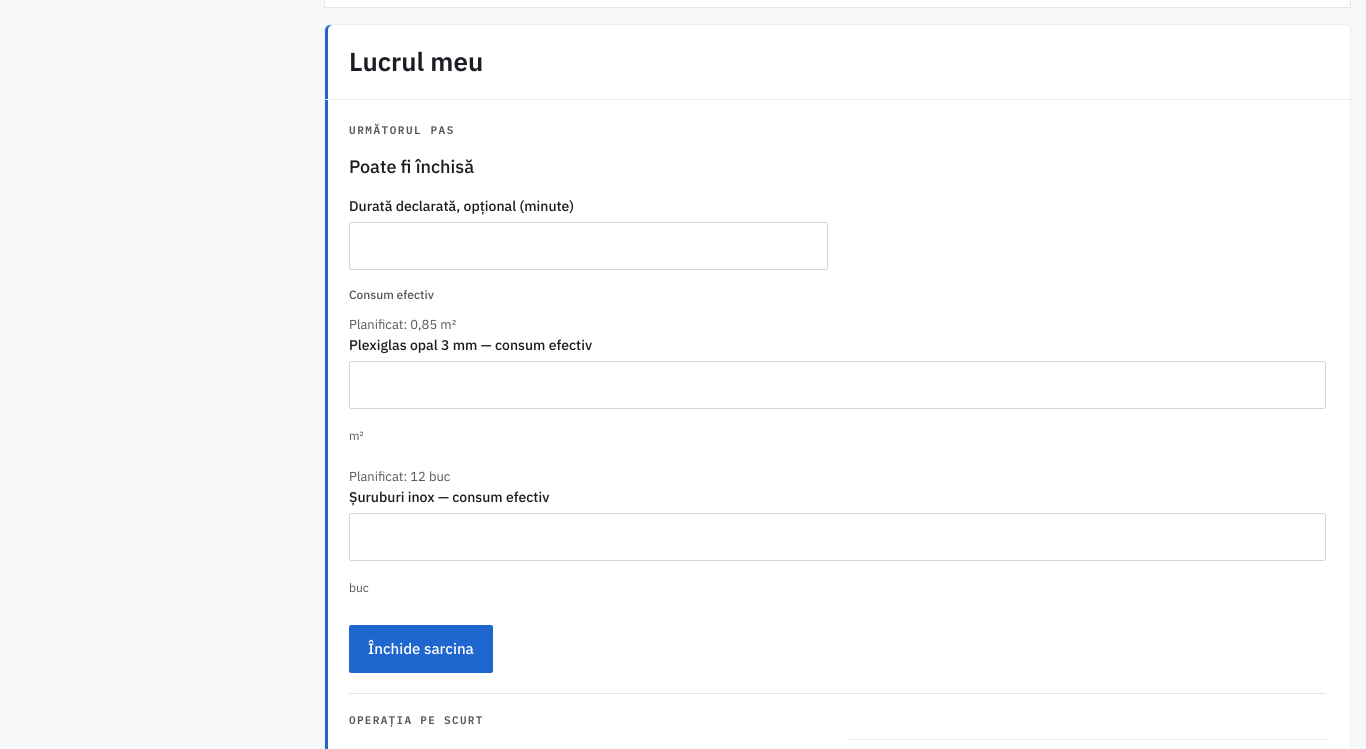
OperationWorkspace › reloads persisted actual history after a successful completion
The width and height of the screenshot is (1366, 749).
(page scrolled)
Type "0,80" into the field labelled "Plexiglas opal 3 mm — consum efectiv" at (838, 385), box [349,361,1326,409]
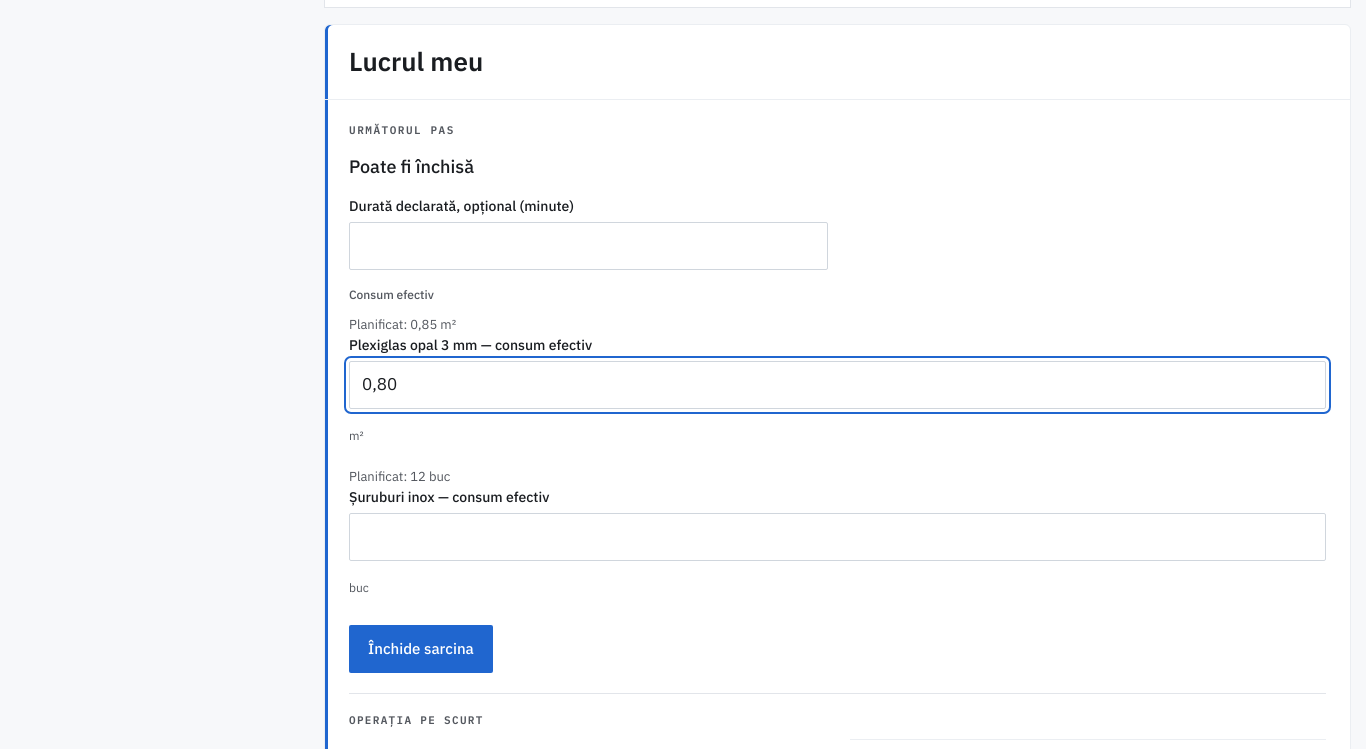
Click the button "Închide sarcina" at (421, 649), box [349,625,493,673]
(page scrolled)
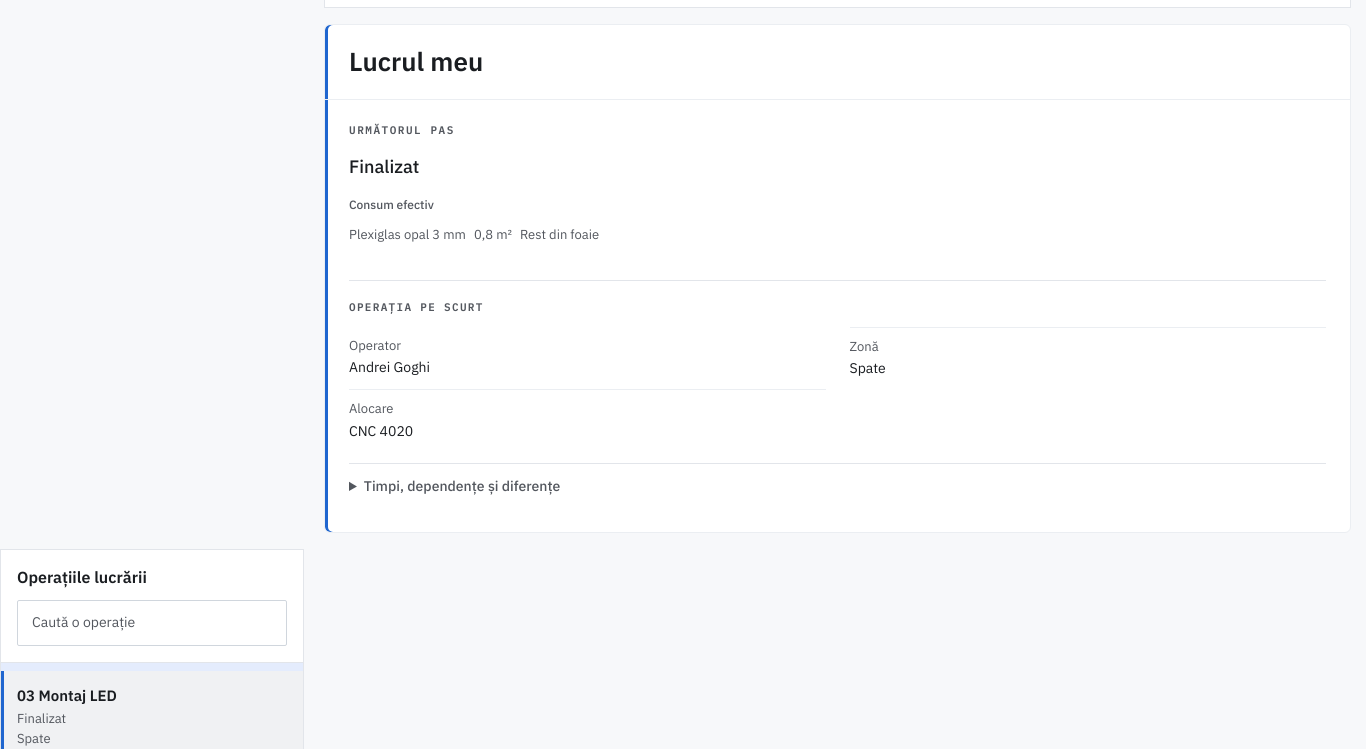
Check: the text "0,8 m²" is shown, box [474,226,512,244]
Check: the text "Rest din foaie" is shown, box [520,226,599,244]
